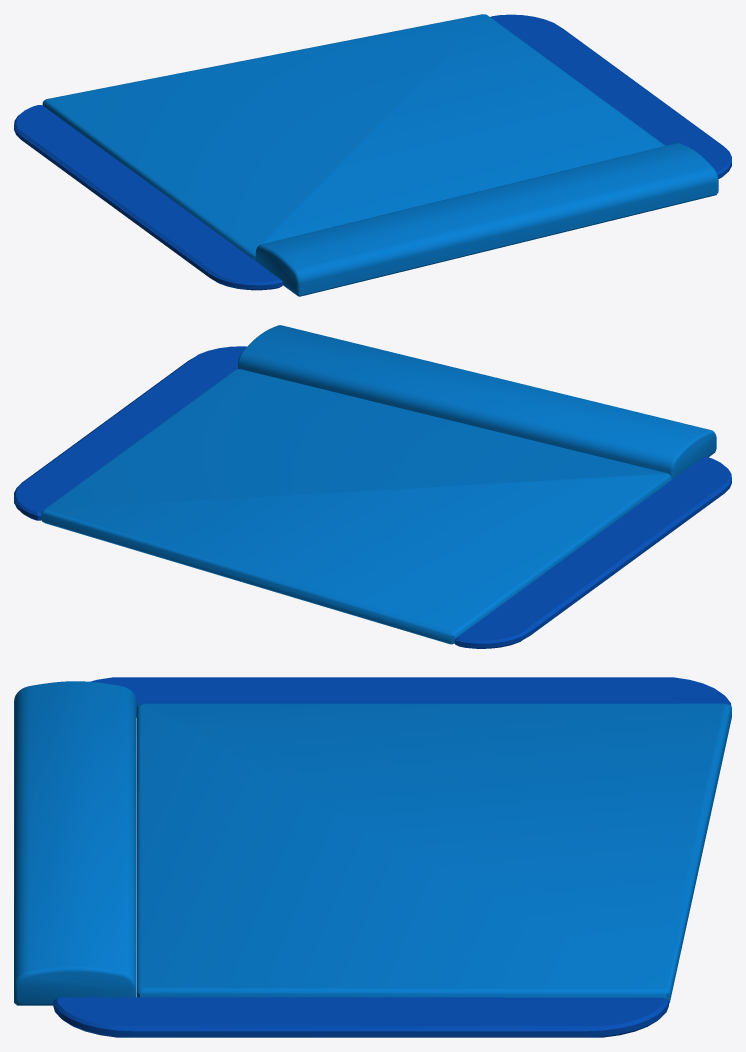
File: device.fbx
3 renders of one model, top to bottom at view 1: azimuth 30°, elevation 25°; view 2: azimuth 150°, elevation 25°; view 3: azimuth 270°, elevation 25°, orthographic. The views are drawn at different scales.
Parts seen in each view (by area): view 1: 047_2, 047_3, 047_1; view 2: 047_2, 047_3, 047_1; view 3: 047_2, 047_1, 047_3.
Boxes of the visible parts, <box> form: 047_2: <box>42,14,665,260</box>; 047_3: <box>255,143,718,296</box>; 047_1: <box>14,14,731,290</box>; 047_2: <box>41,369,671,644</box>; 047_3: <box>238,325,716,479</box>; 047_1: <box>14,346,731,648</box>; 047_2: <box>137,703,731,1003</box>; 047_1: <box>53,677,731,1037</box>; 047_3: <box>14,681,136,1005</box>.
Bounding box in the file's own units: 27 × 1.41 × 23.19.
